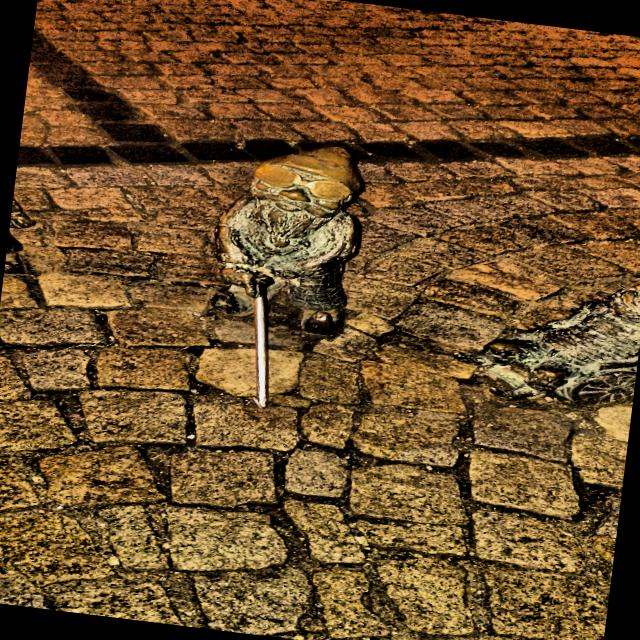Slepak: (214, 146, 362, 406)
W-Skers: (459, 286, 640, 404)
